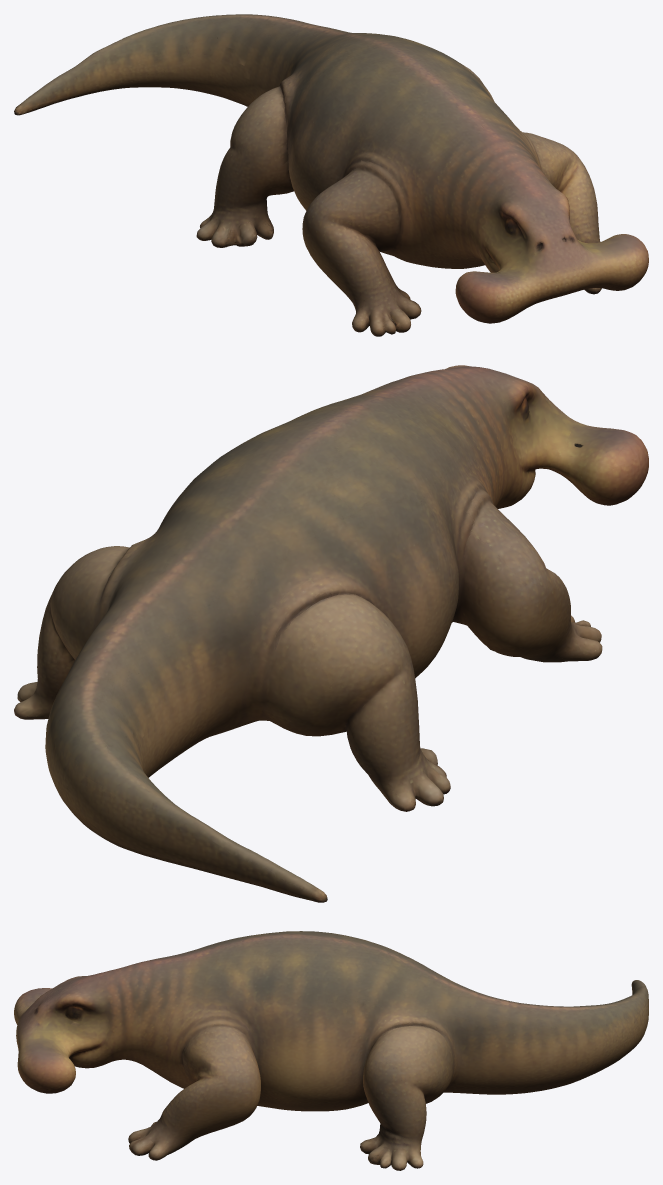
The picture shows the model from 3 angles, top to bottom: view 1: azimuth 30°, elevation 25°; view 2: azimuth 150°, elevation 25°; view 3: azimuth 270°, elevation 25°; orthographic projection. The views are drawn at different scales.
Visible parts, largest first — view 1: world; view 2: world; view 3: world.
Boxes of the visible parts, <box> form: world: <box>14,14,648,336</box>; world: <box>14,365,648,902</box>; world: <box>14,931,648,1170</box>.
Size of the model in its own units: 1.57 by 0.8091 by 2.75.
Materials: 1 (1 with a texture image).
